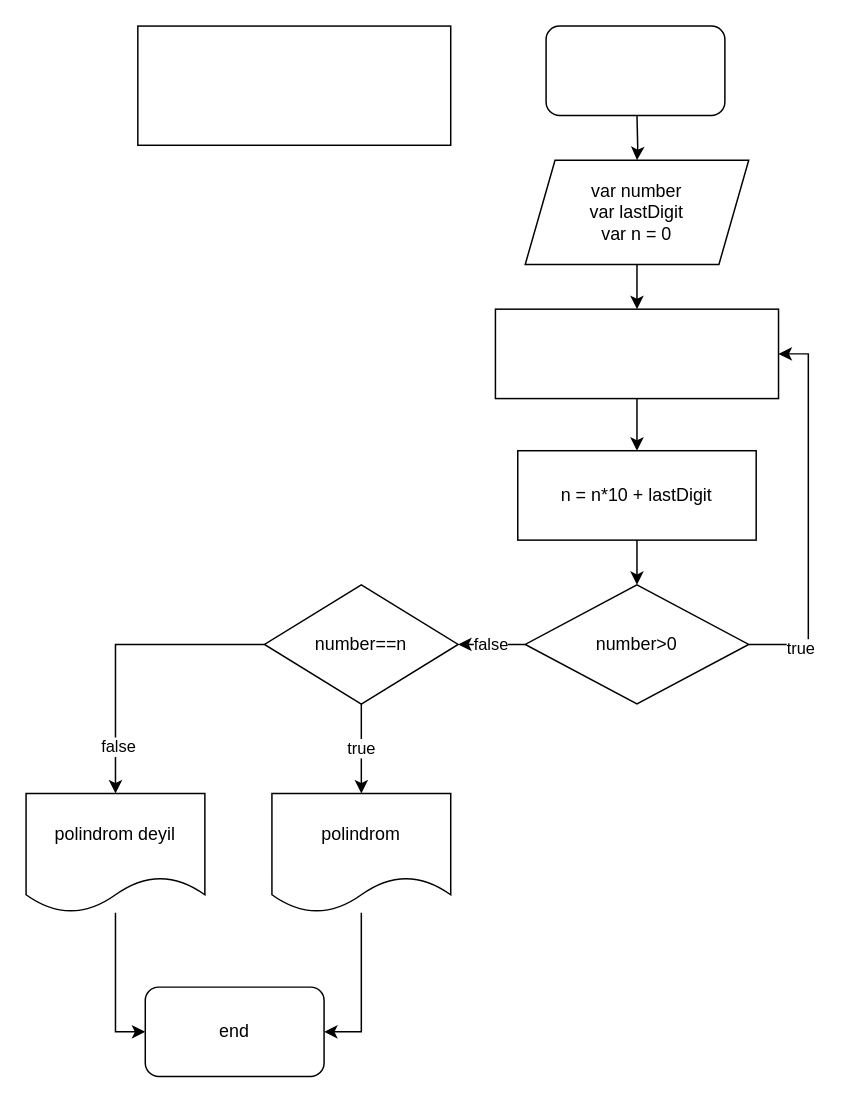
The diagram is 846 pixels wide and 1103 high, and some of its shapes have lost their labels. Each missing label, with the centre of its shape:
lastDigit = number%10 number = (number - lastDigit)/10: (636,353)
start: (635,70)
Verilmiş N natural ədədinin polindrom olub olmamasını tapan alqoritm: (293,85)
